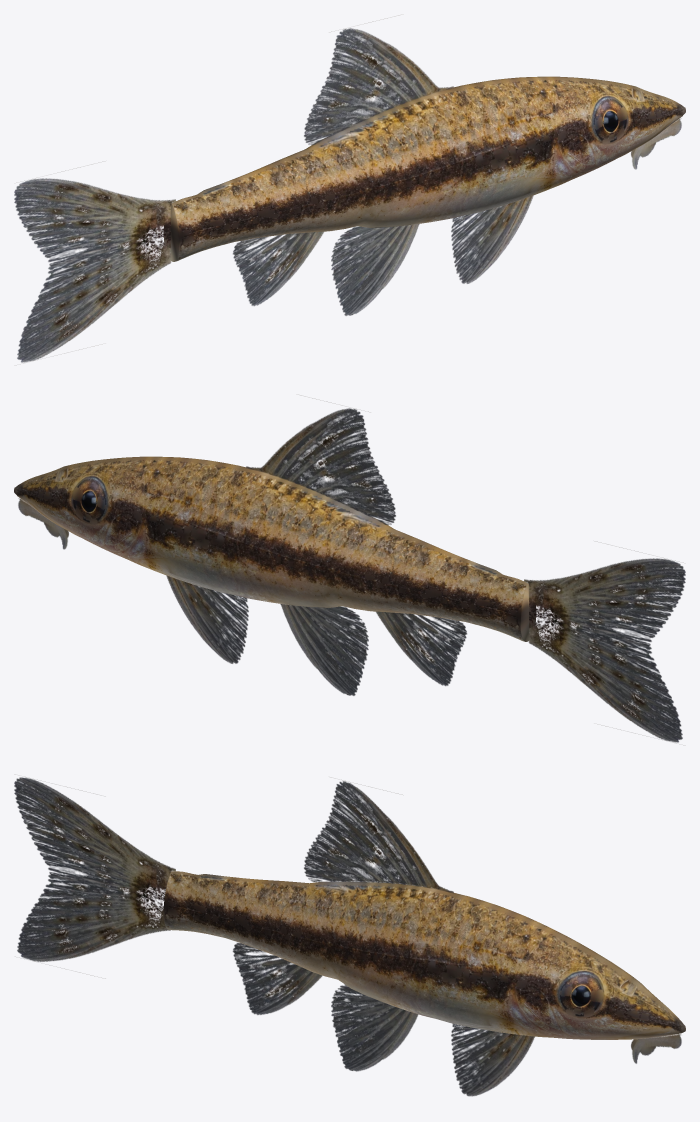
File: species-oto.glb
3 views of the same model, one above another, from view 1: azimuth 30°, elevation 25°; view 2: azimuth 150°, elevation 25°; view 3: azimuth 330°, elevation 25° (orthographic).
Parts seen in each view (by area): view 1: oto; view 2: oto; view 3: oto.
Boxes of the visible parts, box(x1,y1,x2,y2) form: oto: box(14, 28, 685, 362); oto: box(14, 408, 685, 742); oto: box(14, 777, 685, 1096).
Bounding box in the file's own units: 0.0401 × 0.0165 × 0.00525.
1 material, 1 textured.
